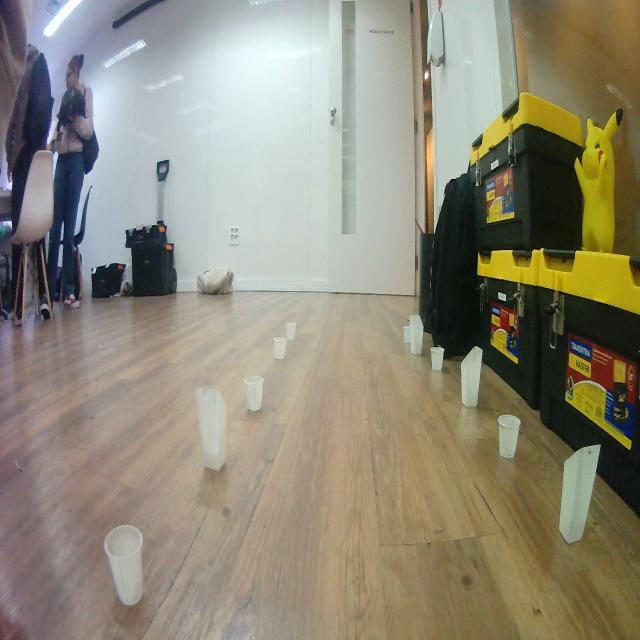erva_daninha: (558, 444, 601, 545), (195, 383, 228, 471), (460, 346, 484, 408), (409, 314, 424, 355)
planta: (103, 524, 145, 607), (498, 414, 522, 459), (244, 375, 265, 413), (430, 346, 445, 372), (274, 336, 286, 361), (285, 322, 297, 341), (403, 326, 411, 344)
